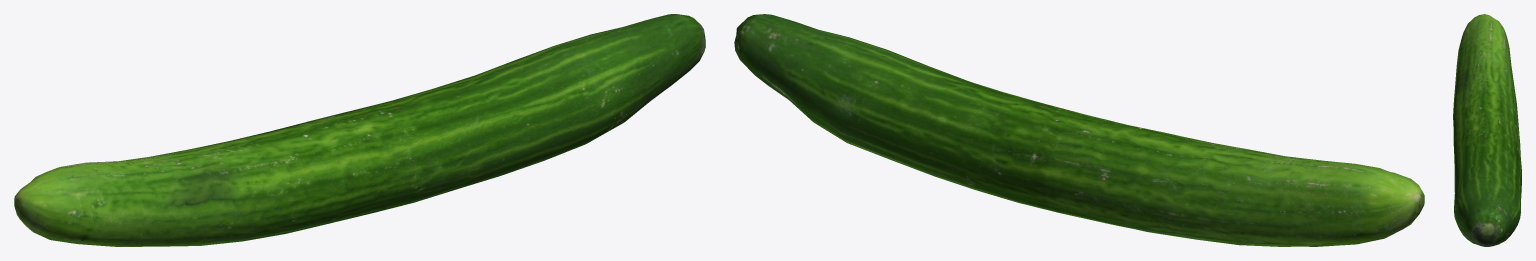
The model's file is Cucumber.fbx.
3 renders of one model, left to right at view 1: azimuth 30°, elevation 25°; view 2: azimuth 150°, elevation 25°; view 3: azimuth 270°, elevation 25°, orthographic. The views are drawn at different scales.
Visible parts, largest first — view 1: Cucumber_LOD0; view 2: Cucumber_LOD0; view 3: Cucumber_LOD0.
Boxes of the visible parts, x1,y1,x2,y2 form: Cucumber_LOD0: (14,14,705,246); Cucumber_LOD0: (734,14,1424,246); Cucumber_LOD0: (1453,14,1521,246).
Size of what is drawn, in the model's own units: 22.81 by 3.69 by 3.09.
